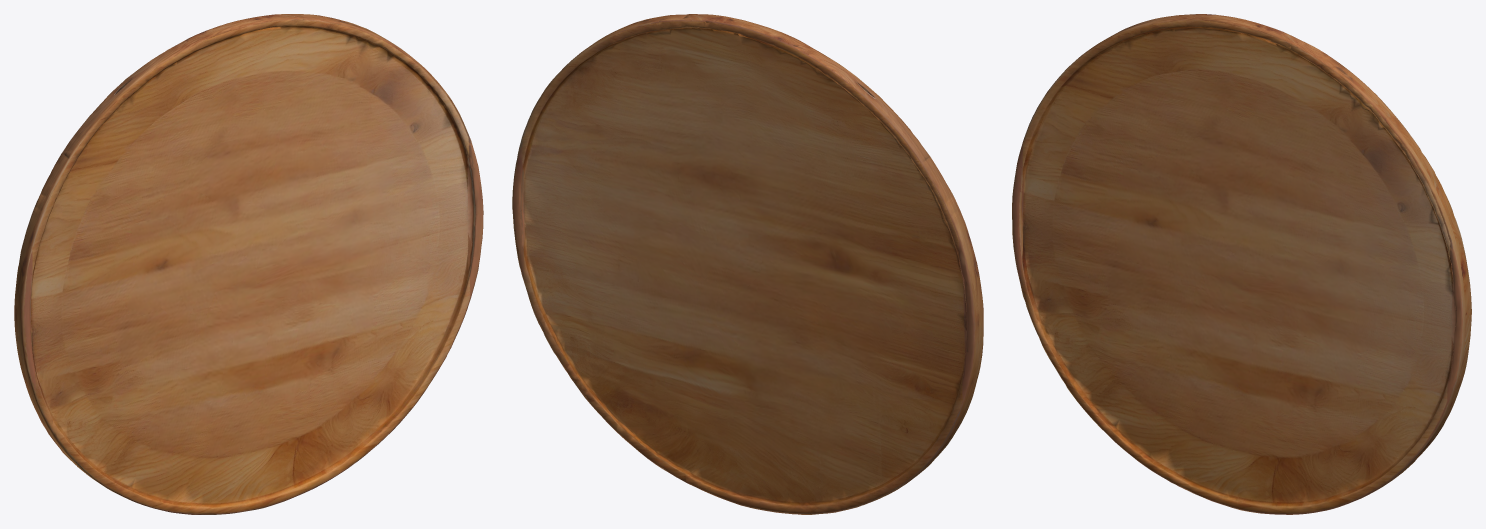
File: Meshy_AI_Wooden_Circle_0225023143_texture.glb
3 renders of one model, left to right at view 1: azimuth 30°, elevation 25°; view 2: azimuth 150°, elevation 25°; view 3: azimuth 330°, elevation 25°, orthographic. The views are drawn at different scales.
Bounding box in the file's own units: 2 × 2 × 0.1425.
1 material, 1 textured.
